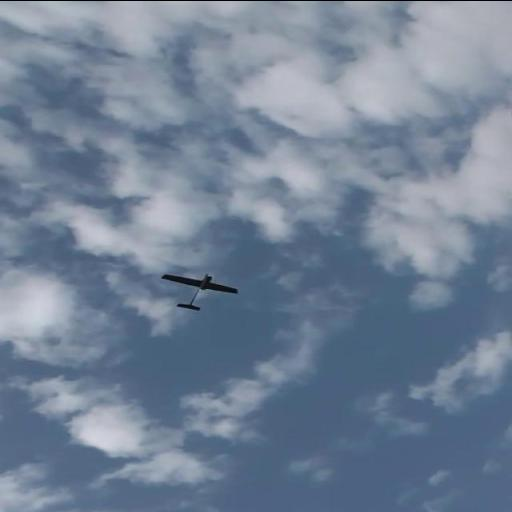uav: (161, 270, 238, 310)
